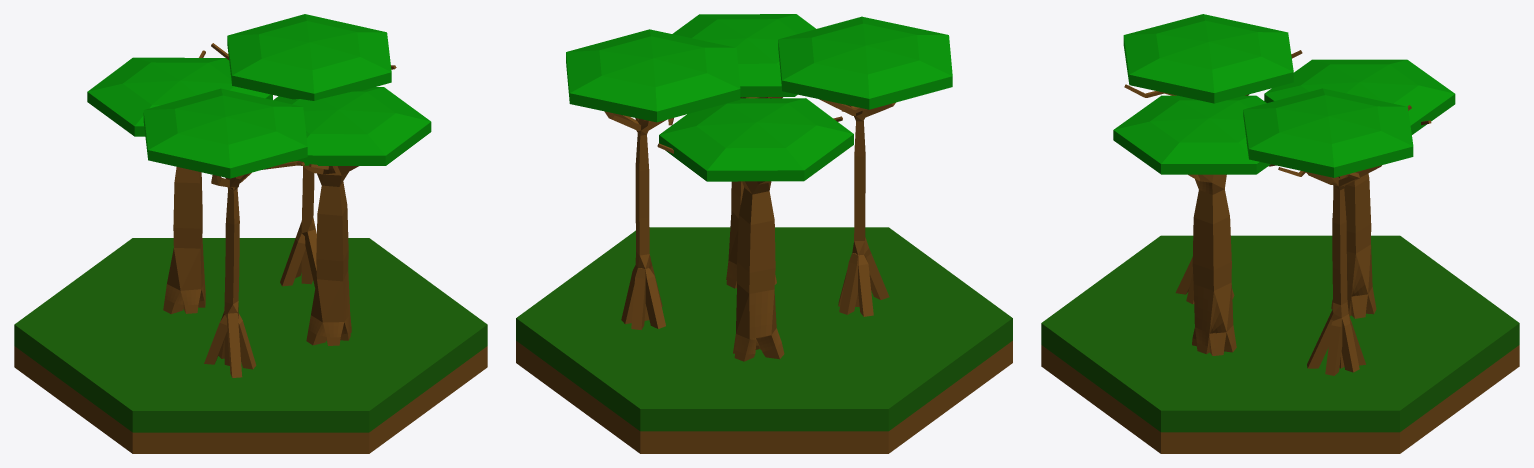
Rendered from !HexagonRainforest.fbx.
The picture shows the model from 3 angles, left to right: view 1: azimuth 30°, elevation 25°; view 2: azimuth 150°, elevation 25°; view 3: azimuth 270°, elevation 25°; orthographic projection. The views are drawn at different scales.
Parts seen in each view (by area): view 1: Cylinder, Plane, Plane.003, Plane.002, Plane.001; view 2: Cylinder, Plane.001, Plane.002, Plane, Plane.003; view 3: Cylinder, Plane.002, Plane.003, Plane, Plane.001.
Part boxes in pixels (box(x1,y1,x2,y2)): Cylinder: box(14, 238, 487, 453); Plane: box(143, 88, 307, 377); Plane.003: box(273, 87, 431, 345); Plane.002: box(211, 14, 396, 287); Plane.001: box(87, 50, 272, 314); Cylinder: box(516, 227, 1012, 453); Plane.001: box(657, 98, 853, 361); Plane.002: box(566, 29, 740, 329); Plane: box(778, 16, 952, 316); Plane.003: box(672, 14, 815, 288); Cylinder: box(1041, 235, 1519, 453); Plane.002: box(1243, 88, 1413, 375); Plane.003: box(1113, 95, 1276, 355); Plane: box(1123, 14, 1302, 304); Plane.001: box(1264, 59, 1455, 318).
Bounding box in the file's own units: 173 × 136 × 200.
